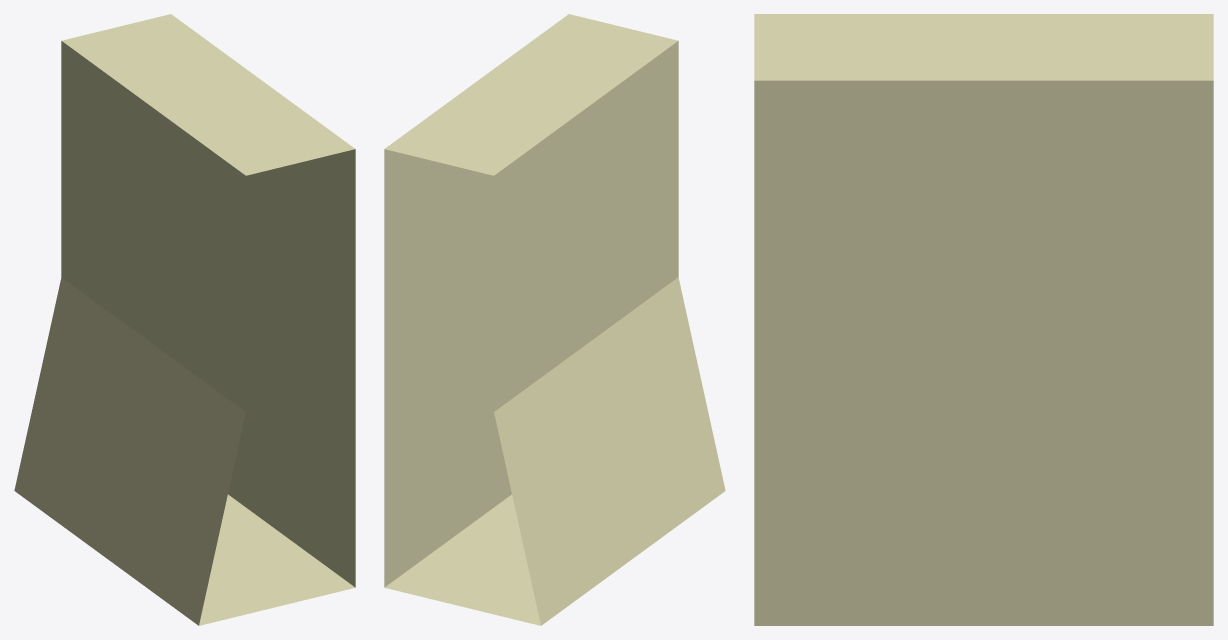
The model's file is muralha1.fbx.
3 renders of one model, left to right at view 1: azimuth 30°, elevation 25°; view 2: azimuth 150°, elevation 25°; view 3: azimuth 270°, elevation 25°, orthographic. The views are drawn at different scales.
Visible parts, largest first — view 1: wall.001; view 2: wall.001; view 3: wall.001.
Boxes of the visible parts, bbox=[...] form: wall.001: bbox=[14, 14, 355, 625]; wall.001: bbox=[384, 14, 725, 625]; wall.001: bbox=[754, 14, 1213, 625].
Size of the model in its own units: 144 by 384 by 293.
